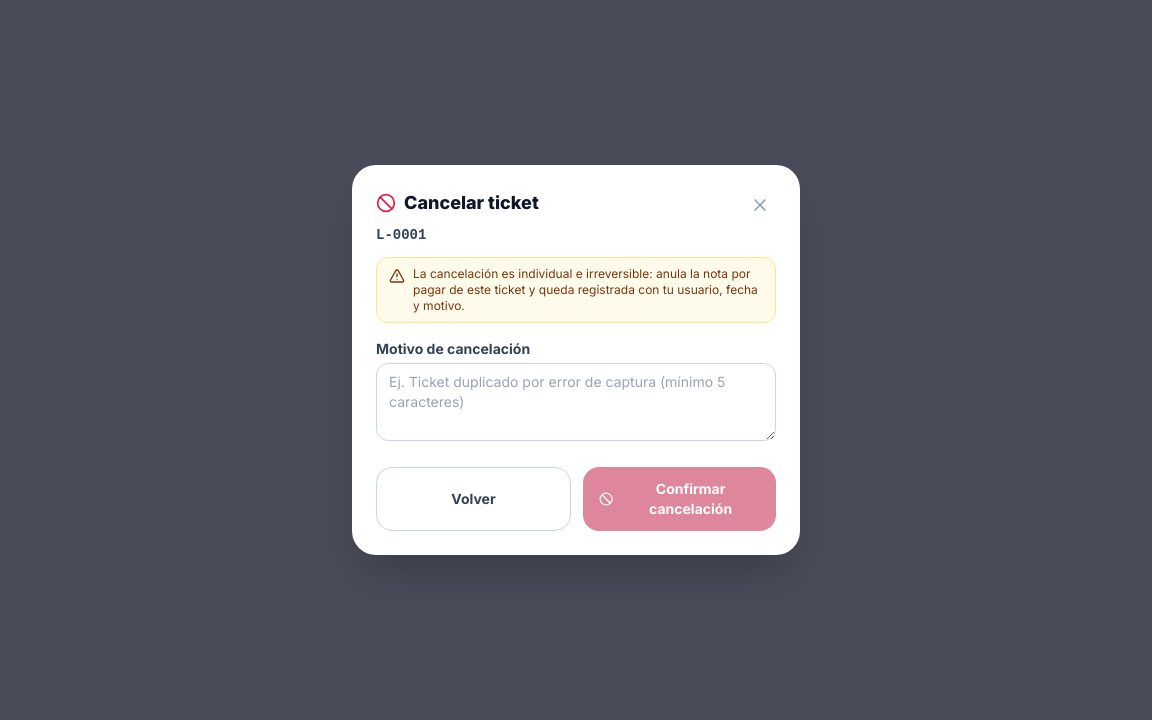
Test: CancelarTicketModal › exige motivo antes de confirmar
Later steps or results of the test are not shown.
Expected: the button "Confirmar cancelación" is disabled, [583,467,776,531]
Replace the text in the text box labelled "Motivo de cancelación" with "abc" at (576, 402), box [376,363,776,441]
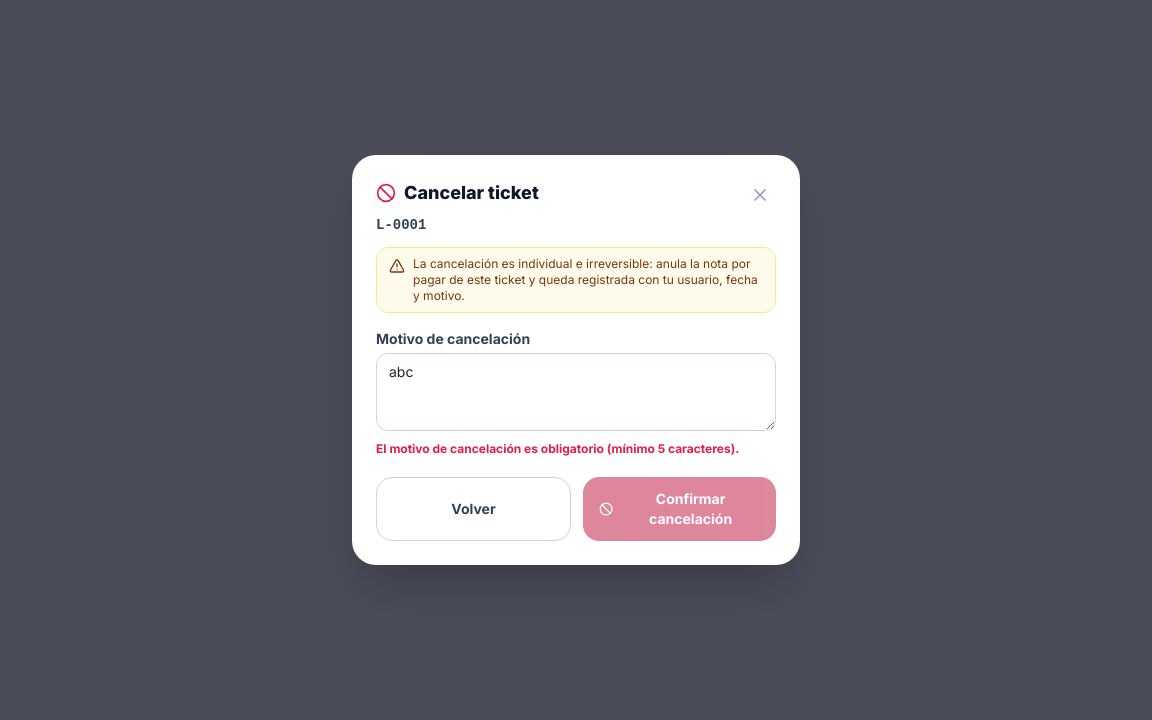
Expected: the button "Confirmar cancelación" is disabled, [583,477,776,541]
Replace the text in the text box labelled "Motivo de cancelación" with "Ticket duplicado por error" at (576, 392), box [376,353,776,431]
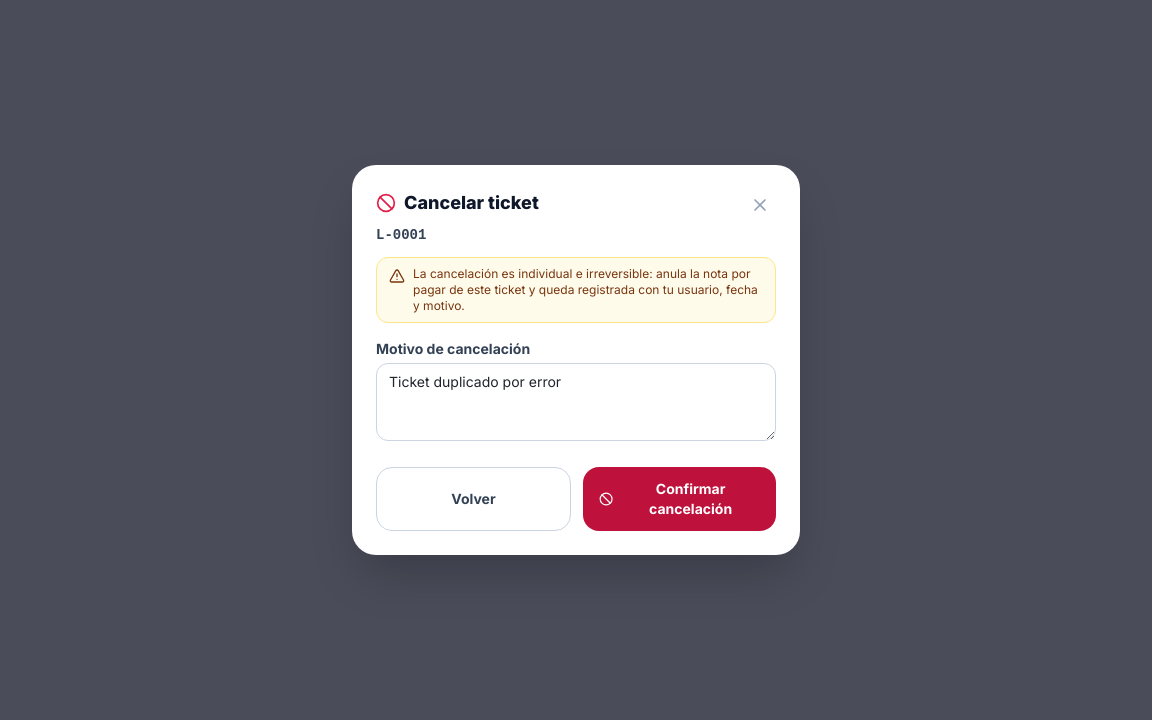
Expected: the button "Confirmar cancelación" is enabled, [583,467,776,531]
